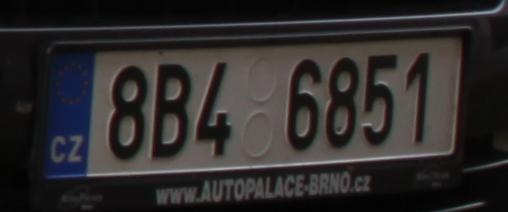1: (404, 50, 429, 146)
4: (195, 63, 234, 159)
5: (363, 54, 401, 145)
6: (286, 54, 319, 155)
8: (108, 63, 146, 159), (324, 57, 357, 146)
B: (151, 60, 188, 157)
